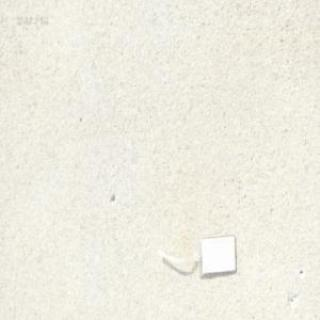LuggageTagtrack_idkeyframe: (154, 231, 236, 276)
